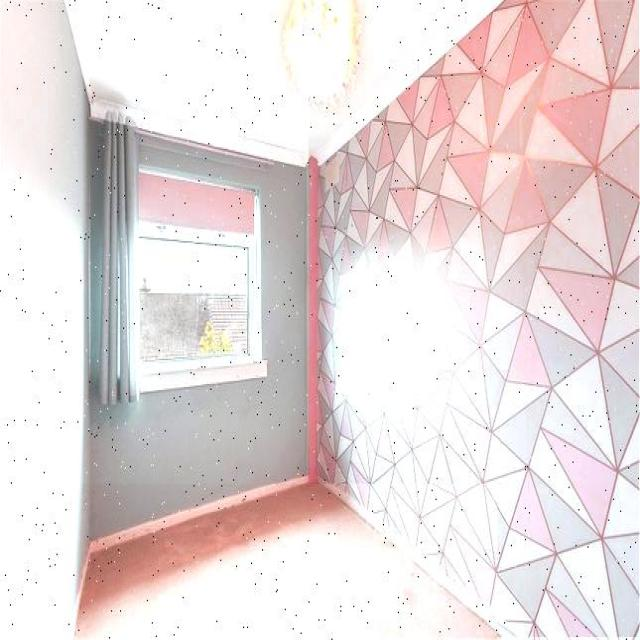Wall: (309, 0, 640, 637), (0, 0, 307, 636), (65, 0, 499, 165), (76, 486, 497, 639)
